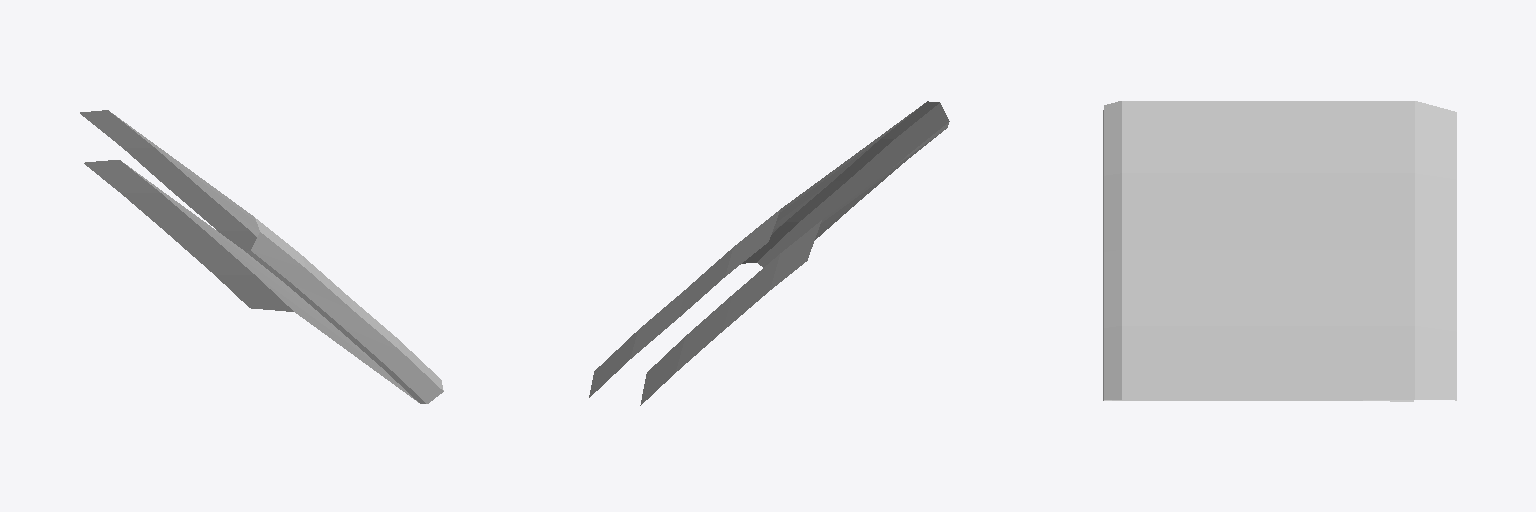
Rendered from basket006.obj.
3 renders of one model, left to right at view 1: azimuth 30°, elevation 25°; view 2: azimuth 150°, elevation 25°; view 3: azimuth 270°, elevation 25°, orthographic.
Parts seen in each view (by area): view 1: basket.006; view 2: basket.006; view 3: basket.006.
Part boxes in pixels (x1,y1,x2,y2): basket.006: (80,110,443,403); basket.006: (589,101,949,405); basket.006: (1103,101,1456,401).
Size of the model in its own units: 0.1117 by 0.1166 by 0.1605.